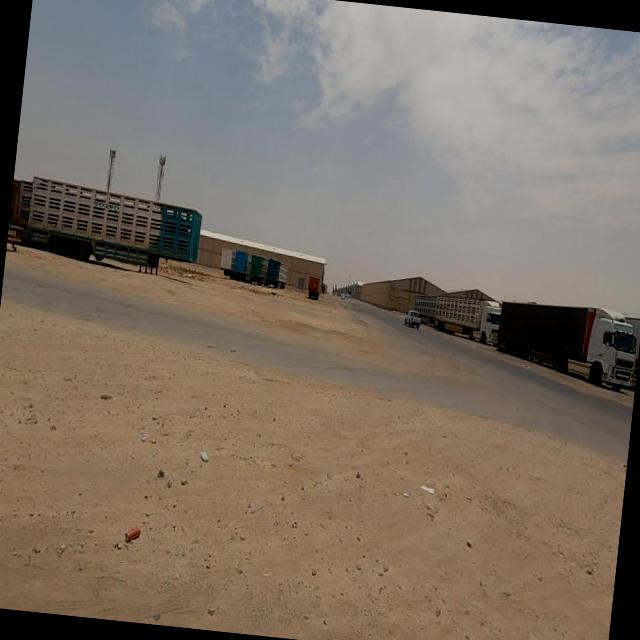debris: (158, 393, 255, 507), (106, 451, 171, 594), (383, 441, 466, 531), (101, 386, 180, 478)
